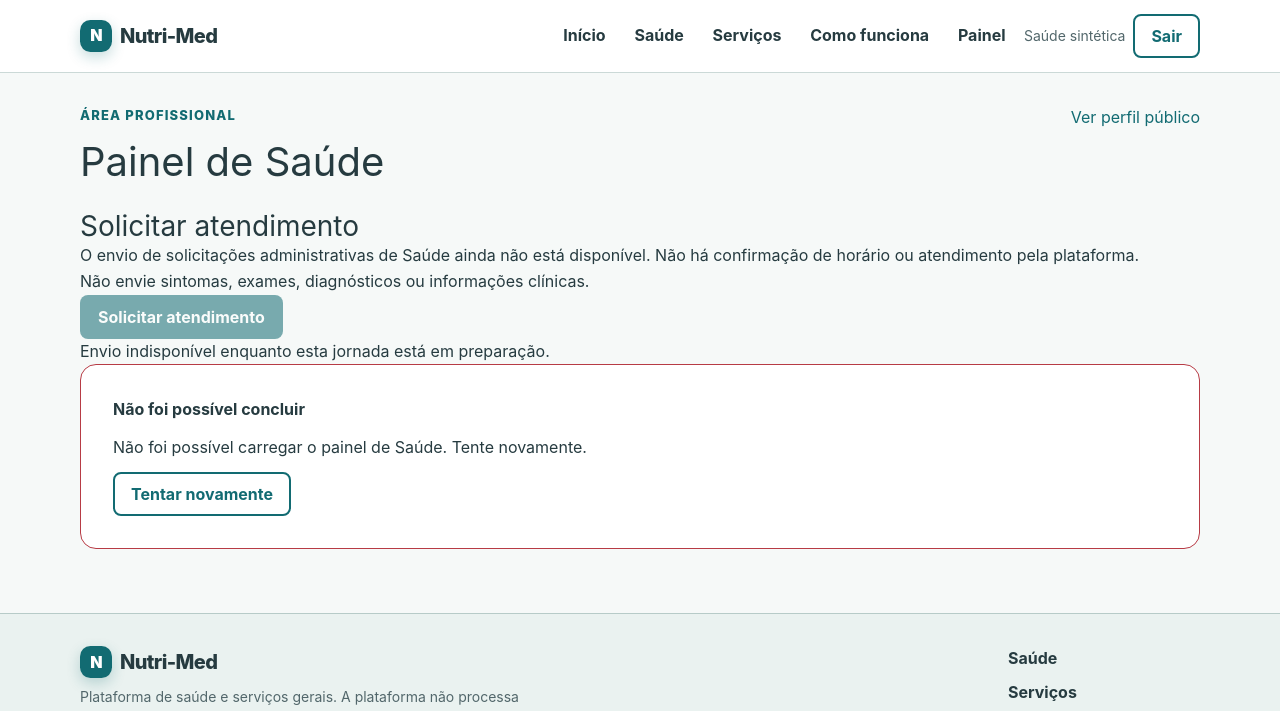
Scenario: falha de carregamento oferece recuperação sem controles de edição inoperantes
expect the message shows "Não foi possível carregar": met, box [113, 437, 587, 457]
expect the field labelled "Profissão" is not shown: met
Click the button "Tentar novamente" at (202, 494), box [113, 472, 291, 516]
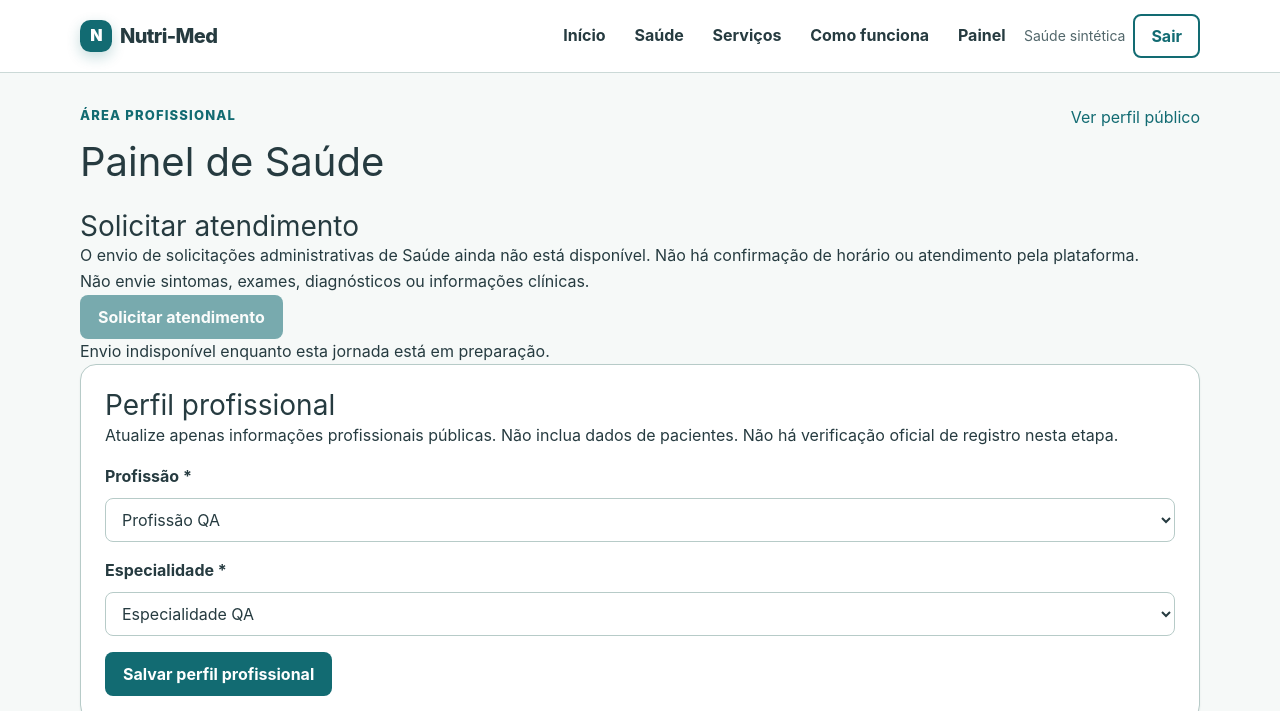
expect the dropdown labelled "Profissão *" is shown: met, box [105, 498, 1175, 542]
